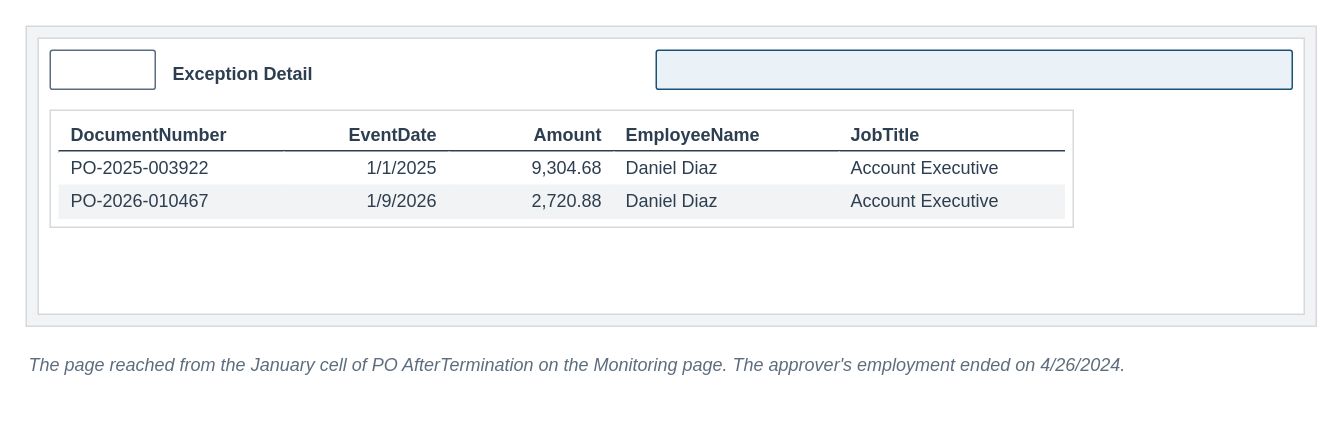
The diagram is 1343 pixels wide and 434 high, and some of its shapes have lost their labels. The box of each missing label's shape, as (x1, y1, x2, y2) in pixels:
Drill-through filters: TestID is PO AfterTermination; MonthName is Jan: (655, 49, 1292, 89)
◀ Back: (49, 49, 155, 89)
